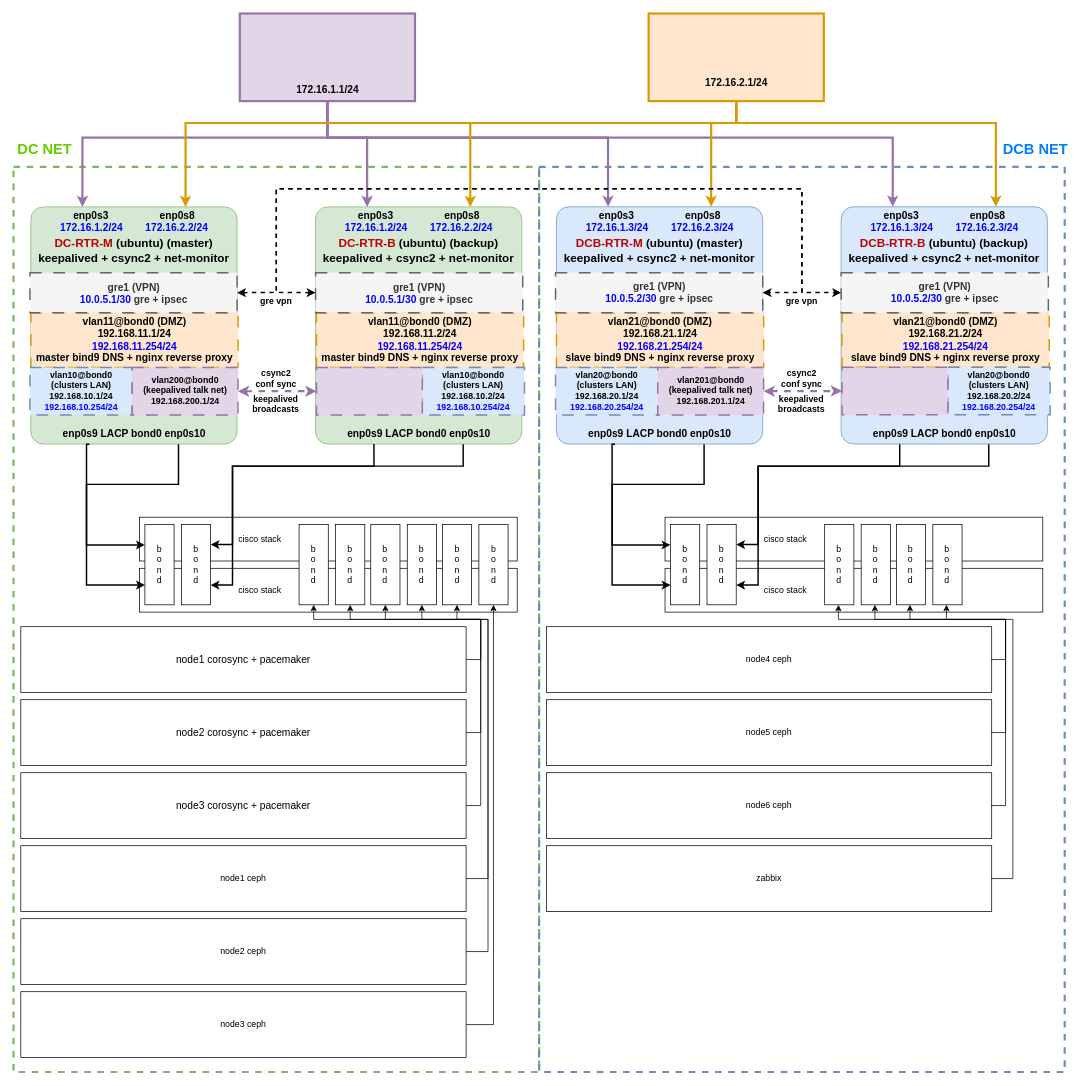
Some shapes in this 1085 by 1086 pixel diagram are drawn without their labels. Here are the shapes that lost their labels. From the top down, the box of each, then its label:
(238, 12, 416, 102): ISP1
(647, 12, 825, 102): ISP2
(315, 366, 423, 415): vlan200@bond0 (keepalived talk net) 192.168.200.2/24
(841, 366, 948, 415): vlan201@bond0 (keepalived talk net) 192.168.201.2/24
